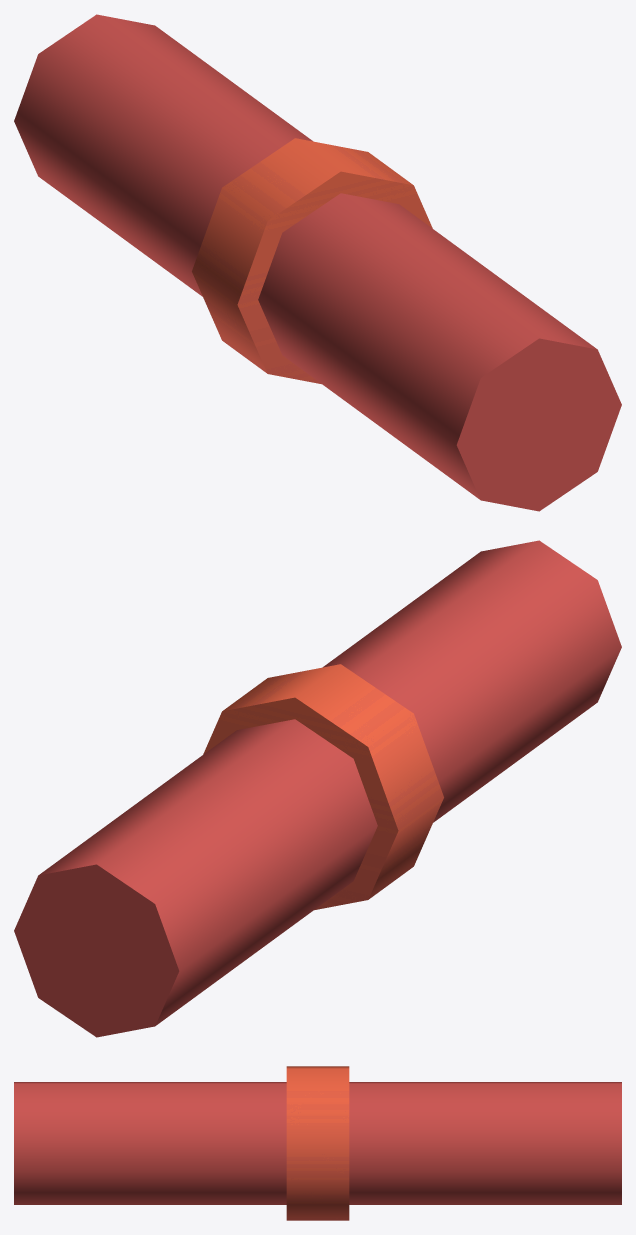
Rendered from support_small_horizontal_ring.glb.
The picture shows the model from 3 angles, top to bottom: view 1: azimuth 30°, elevation 25°; view 2: azimuth 150°, elevation 25°; view 3: azimuth 270°, elevation 25°; orthographic projection. The views are drawn at different scales.
Visible parts, largest first — view 1: support-small-horizontal-ring; view 2: support-small-horizontal-ring; view 3: support-small-horizontal-ring.
Boxes of the visible parts, x1,y1,x2,y2 form: support-small-horizontal-ring: (14, 14, 621, 511); support-small-horizontal-ring: (14, 540, 621, 1037); support-small-horizontal-ring: (14, 1066, 621, 1220).
Size of the model in its own units: 0.2697 by 0.2697 by 1.
Materials: 1 (1 with a texture image).
